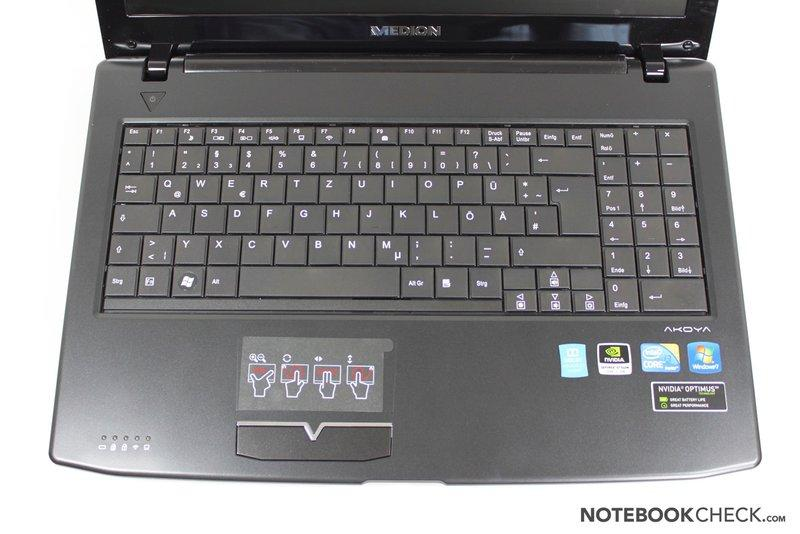0: (431, 143, 462, 172)
1: (142, 144, 171, 171)
2: (174, 143, 204, 171)
3: (205, 142, 235, 171)
4: (237, 142, 267, 171)
5: (269, 143, 299, 171)
6: (302, 143, 332, 171)
7: (334, 142, 364, 171)
8: (367, 143, 396, 171)
9: (399, 143, 430, 171)
a: (159, 201, 190, 231)
accent: (499, 145, 528, 174)
ae: (491, 202, 522, 233)
alt-left: (202, 263, 235, 295)
altgr-right: (399, 264, 432, 296)
b: (305, 232, 338, 263)
c: (238, 232, 270, 263)
caret: (118, 144, 140, 171)
comma: (407, 232, 439, 263)
d: (224, 201, 256, 232)
del: (530, 144, 591, 172)
e: (218, 171, 249, 201)
enter: (546, 173, 597, 233)
f: (258, 201, 288, 232)
g: (291, 202, 322, 232)
h: (324, 201, 355, 232)
hash: (524, 202, 555, 233)
i: (383, 171, 413, 201)
j: (357, 202, 388, 232)
k: (391, 202, 422, 232)
keyboard: (94, 112, 712, 316)
l: (425, 202, 455, 232)
less: (139, 231, 171, 262)
m: (373, 232, 405, 264)
minus: (475, 233, 507, 263)
n: (339, 232, 371, 263)
o: (415, 172, 446, 202)
oe: (457, 202, 489, 232)
p: (448, 172, 479, 202)
plus: (514, 172, 545, 202)
point: (441, 233, 473, 263)
q: (154, 171, 185, 201)
r: (251, 171, 282, 201)
s: (191, 201, 222, 232)
shift-left: (105, 232, 138, 262)
shift-lock: (110, 201, 158, 231)
shift-right: (509, 233, 600, 265)
space: (238, 263, 397, 296)
ss: (467, 144, 497, 172)
strg-left: (102, 262, 135, 294)
strg-right: (466, 264, 500, 297)
t: (284, 171, 315, 201)
tab: (113, 171, 153, 201)
u: (349, 171, 380, 202)
ue: (480, 172, 512, 202)
v: (272, 232, 304, 263)
w: (186, 171, 216, 201)
x: (206, 232, 236, 263)
y: (172, 232, 203, 262)
z: (317, 171, 348, 201)
